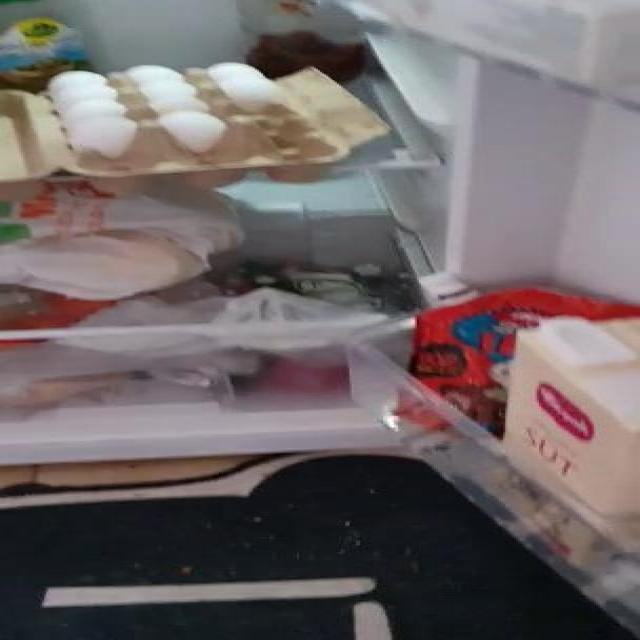eggs: (59, 66, 295, 155)
milk: (524, 318, 640, 526)
